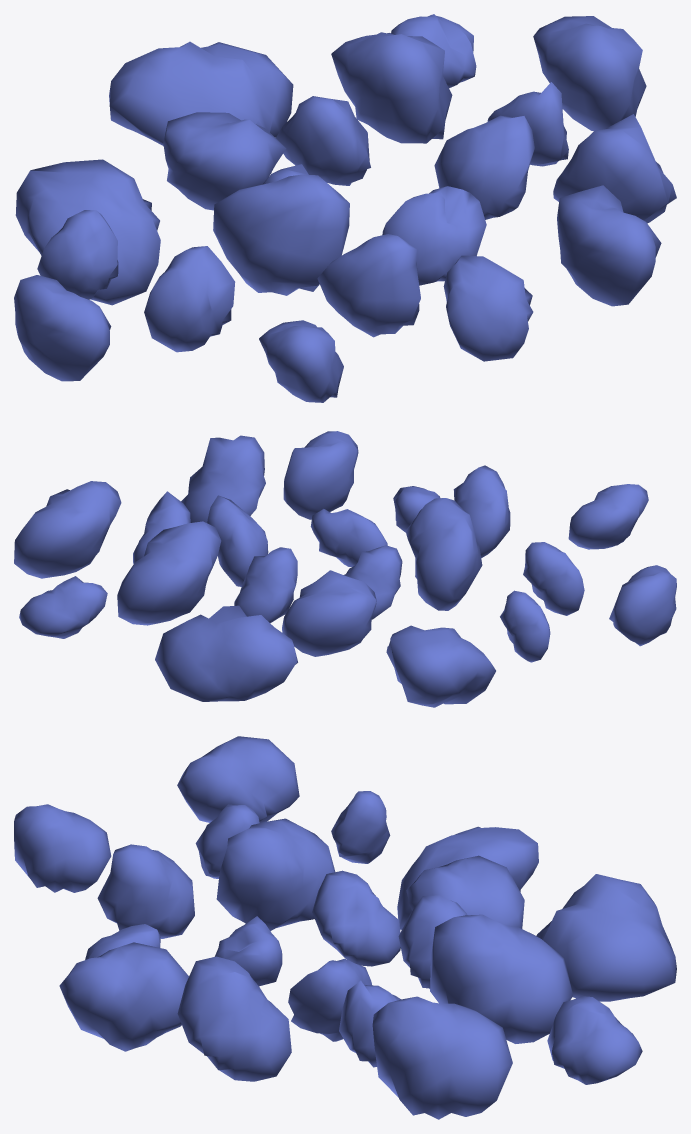
File: PoolsOfRocks.FBX
3 renders of one model, top to bottom at view 1: azimuth 30°, elevation 25°; view 2: azimuth 150°, elevation 25°; view 3: azimuth 270°, elevation 25°, orthographic. The views are drawn at different scales.
Parts seen in each view (by area): view 1: LowPoly_Rock016; view 2: LowPoly_Rock016; view 3: LowPoly_Rock016.
Boxes of the visible parts, bbox=[...] form: LowPoly_Rock016: bbox=[14, 14, 676, 402]; LowPoly_Rock016: bbox=[14, 431, 676, 707]; LowPoly_Rock016: bbox=[14, 736, 676, 1119].
Size of the model in its own units: 449 by 99.2 by 387.
